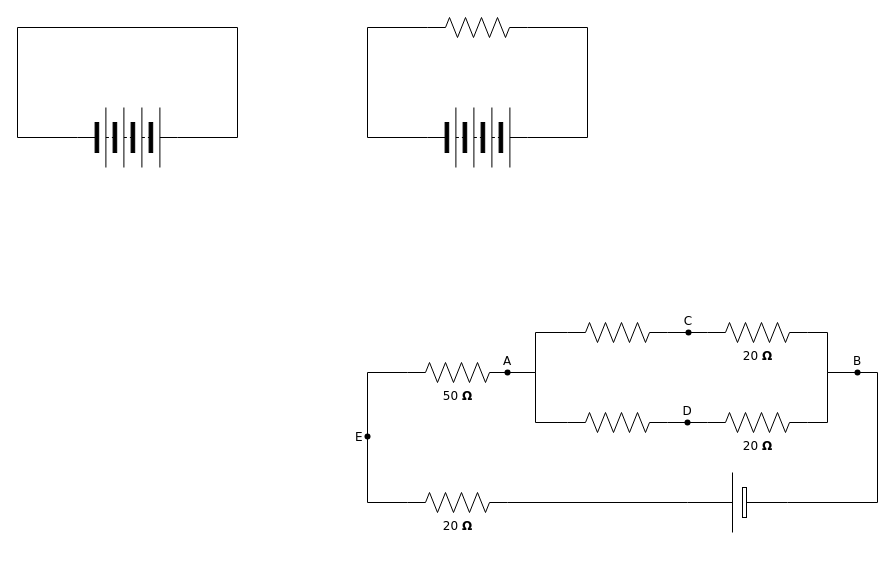
Some shapes in this 896 by 571 pixel diagram are drawn without their labels. Each missing label, with the centre of its shape:
"220 V" goes at pixel 737 502.
"220 Ω" goes at pixel 477 27.
"40 Ω" goes at pixel 617 332.
"70 Ω" goes at pixel 617 422.
